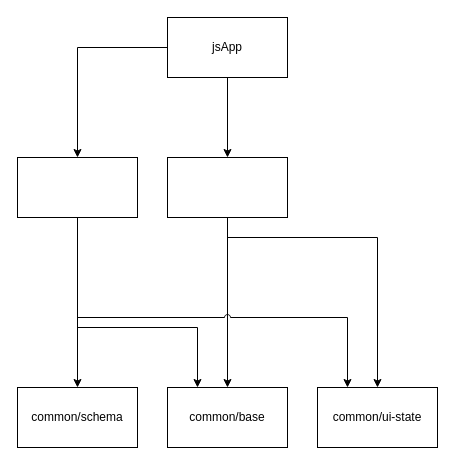
The diagram is 455 pixels wide and 465 high, and some of its shapes have lost their labels. Here are the shapes that lost their labels. From the top down, the centre of each, then its label:
At point 77,187: "common/viewmodel".
At point 227,187: "common/ui".
